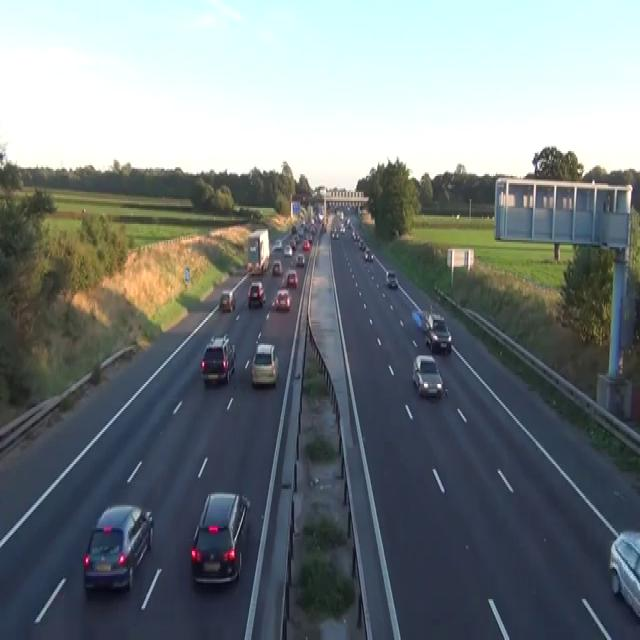Car: (83, 503, 153, 594), (190, 491, 250, 586), (608, 528, 639, 619), (412, 306, 452, 354), (200, 334, 236, 384), (412, 354, 443, 398), (250, 343, 279, 386), (425, 318, 452, 354), (247, 281, 266, 307), (411, 309, 431, 331), (425, 306, 444, 329), (273, 288, 291, 309), (219, 290, 235, 311), (385, 268, 398, 288), (286, 270, 298, 286), (272, 260, 282, 276), (273, 238, 282, 251), (302, 238, 311, 251), (296, 252, 304, 266), (364, 249, 373, 261), (283, 244, 292, 256), (352, 229, 360, 242), (280, 274, 287, 288), (289, 236, 296, 249), (364, 245, 370, 258), (328, 202, 335, 212), (359, 238, 365, 249), (339, 222, 345, 233), (331, 230, 339, 238), (300, 196, 308, 204), (337, 210, 344, 218), (247, 261, 252, 272), (291, 224, 296, 233), (346, 217, 350, 227)
Truck: (246, 228, 269, 274)
